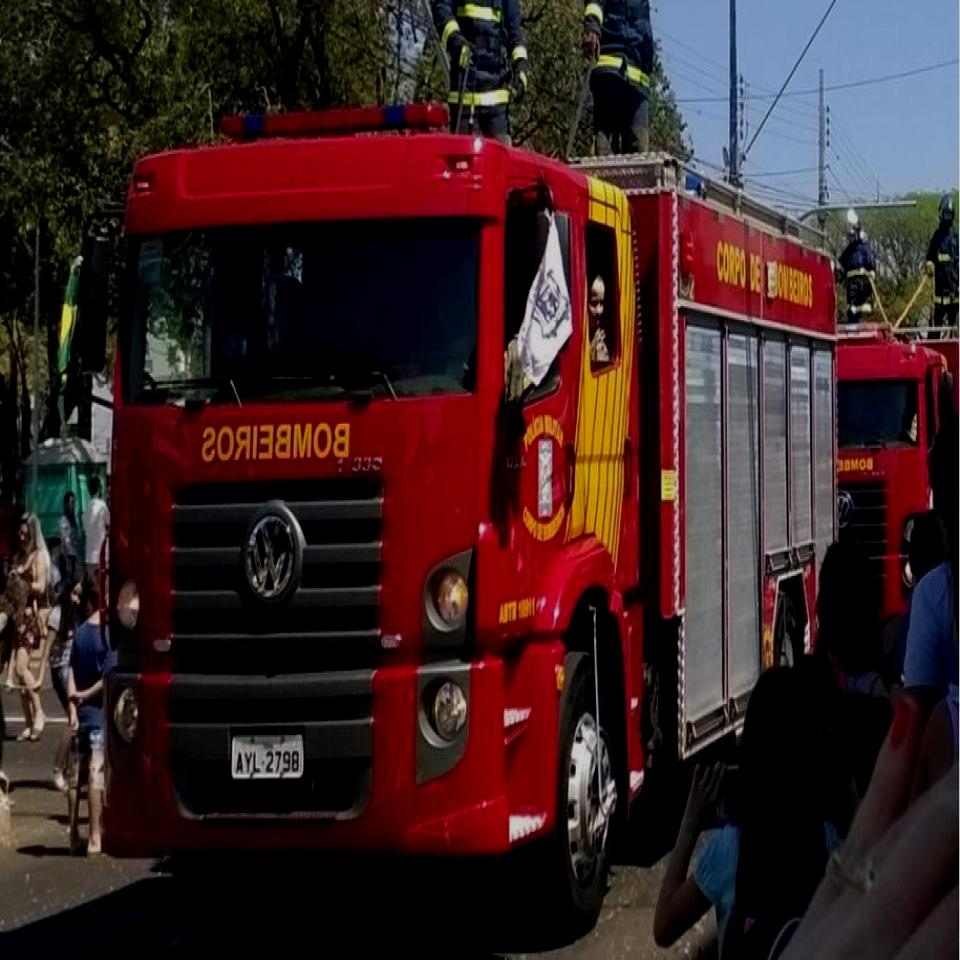bombeiro: (95, 87, 840, 959)
